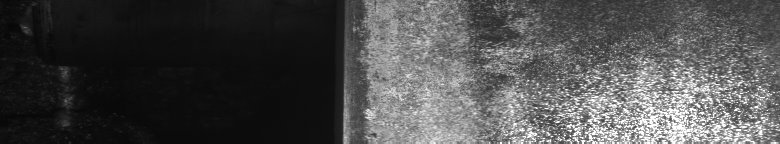kb: (357, 4, 776, 136)
